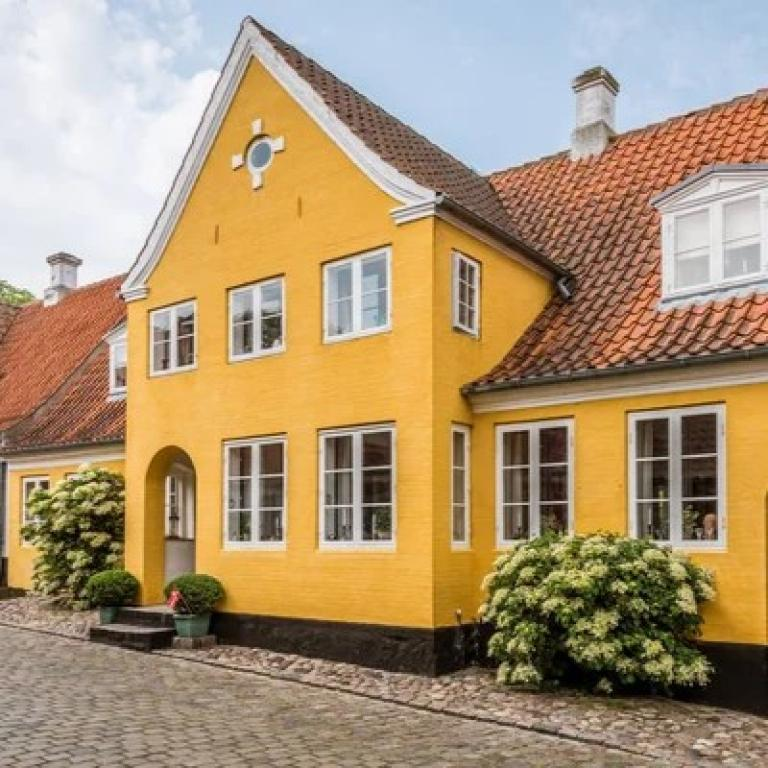white-walls: (121, 55, 768, 645)
